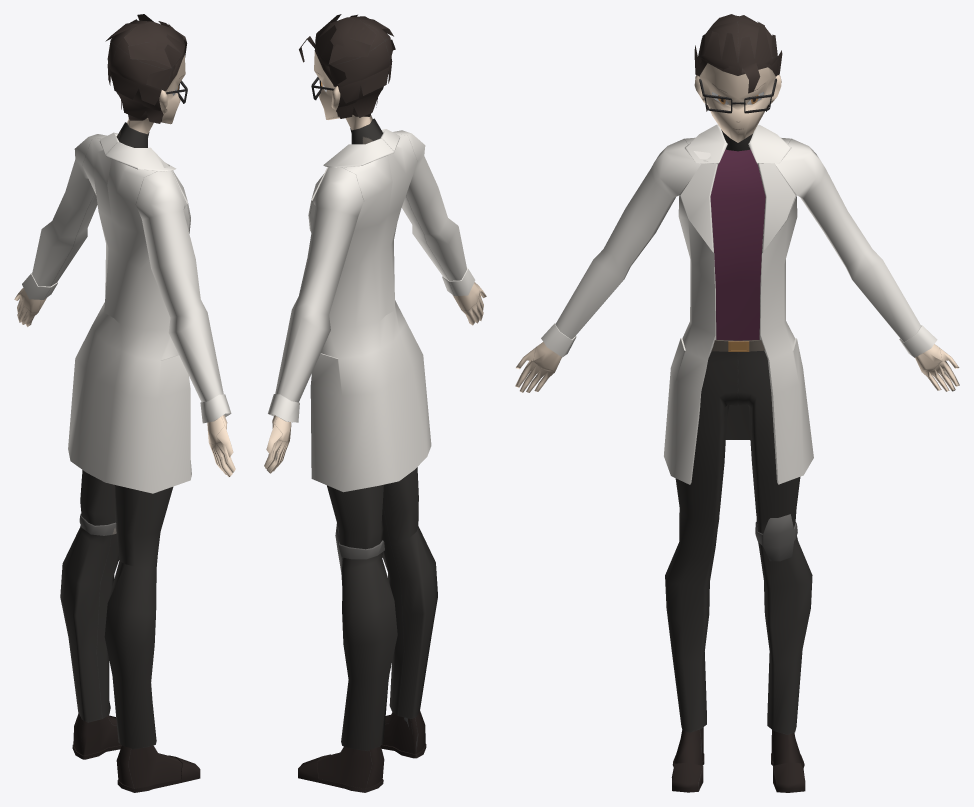
The model's file is antagonist.fbx.
The picture shows the model from 3 angles, left to right: view 1: azimuth 30°, elevation 25°; view 2: azimuth 150°, elevation 25°; view 3: azimuth 270°, elevation 25°; orthographic projection. The views are drawn at different scales.
Parts seen in each view (by area): view 1: pCube15; view 2: pCube15; view 3: pCube15.
Part boxes in pixels (<box>): pCube15: <box>14,14,235,792</box>; pCube15: <box>264,14,486,792</box>; pCube15: <box>515,14,959,792</box>.
Size of the model in its own units: 29.26 by 193 by 102.
Materials: 1 (1 with a texture image).
